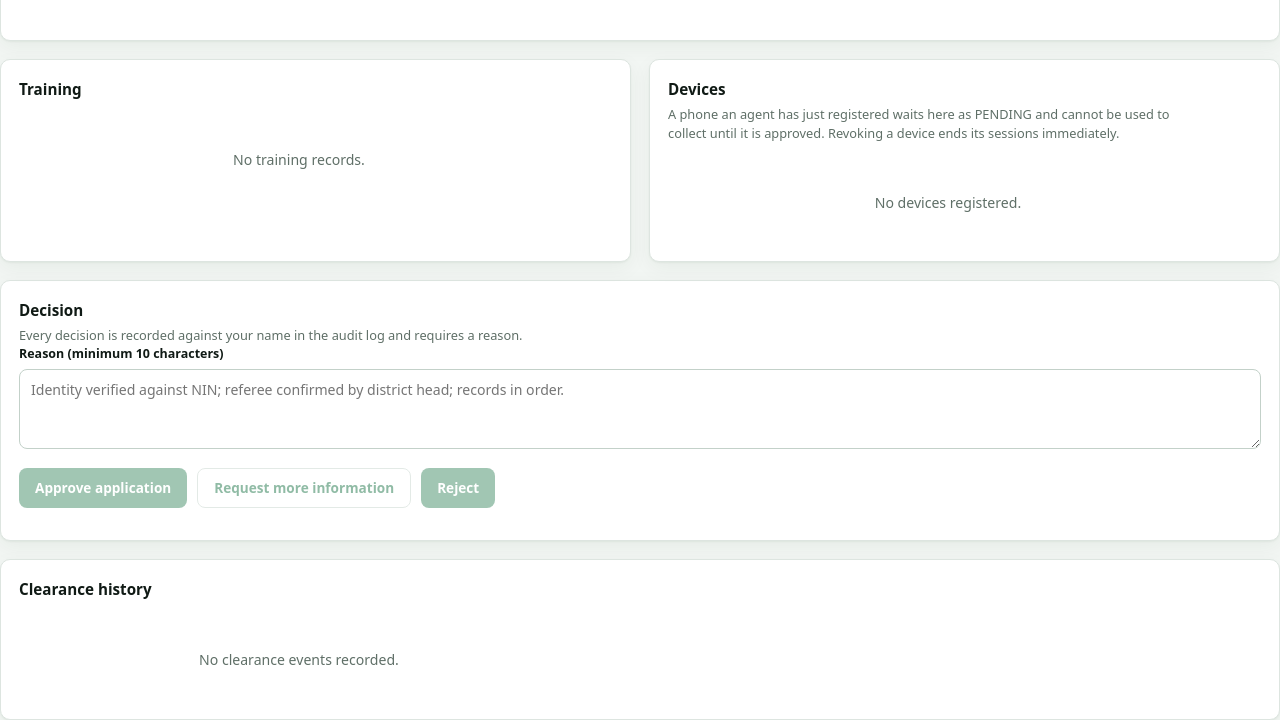
Test: deciding an application › shows the server’s refusal instead of reporting an approval that did not happen
The image size is (1280, 720).
(page scrolled)
Expected: the button "Approve application" is shown, [19,468,187,508]
Step 1. Replace the text in the text box labelled "Reason (minimum 10 characters)" with "Identity documents checked against the NIN slip." → (640,409), box [19,369,1261,449]
(page scrolled)
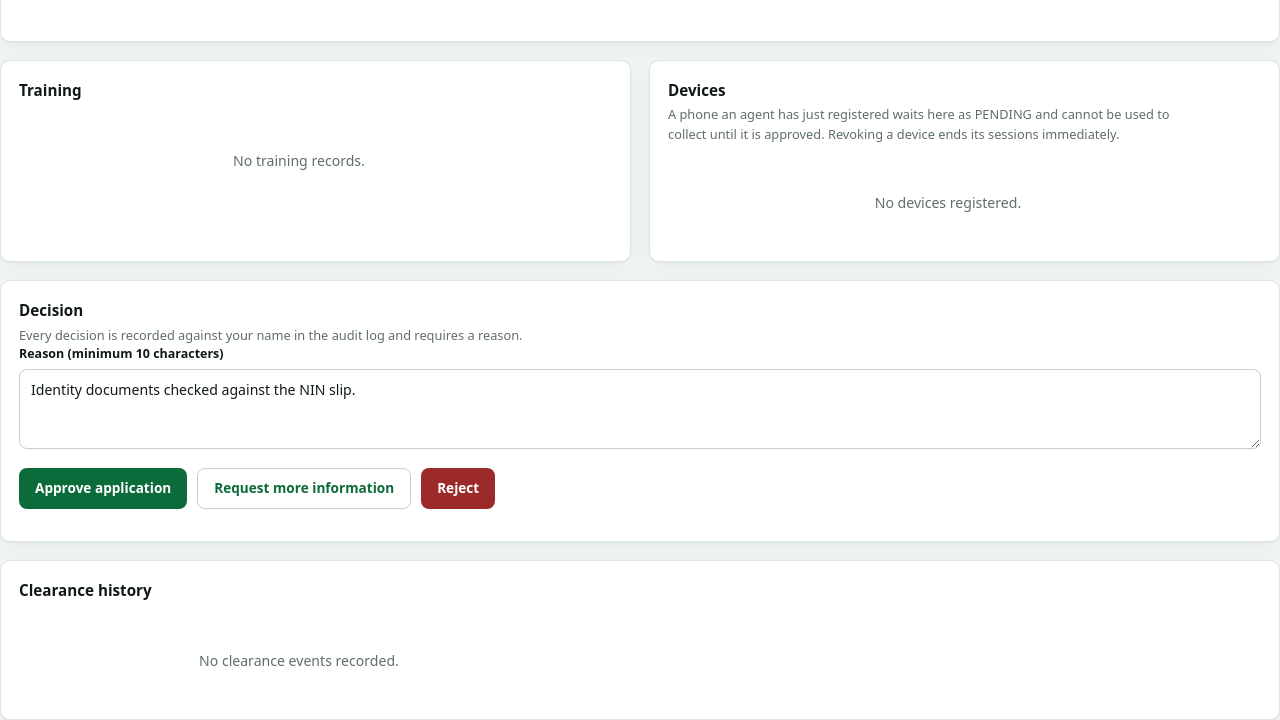
Step 2. Click the button "Approve application" → (103,488), box [19,468,187,509]
(page scrolled)
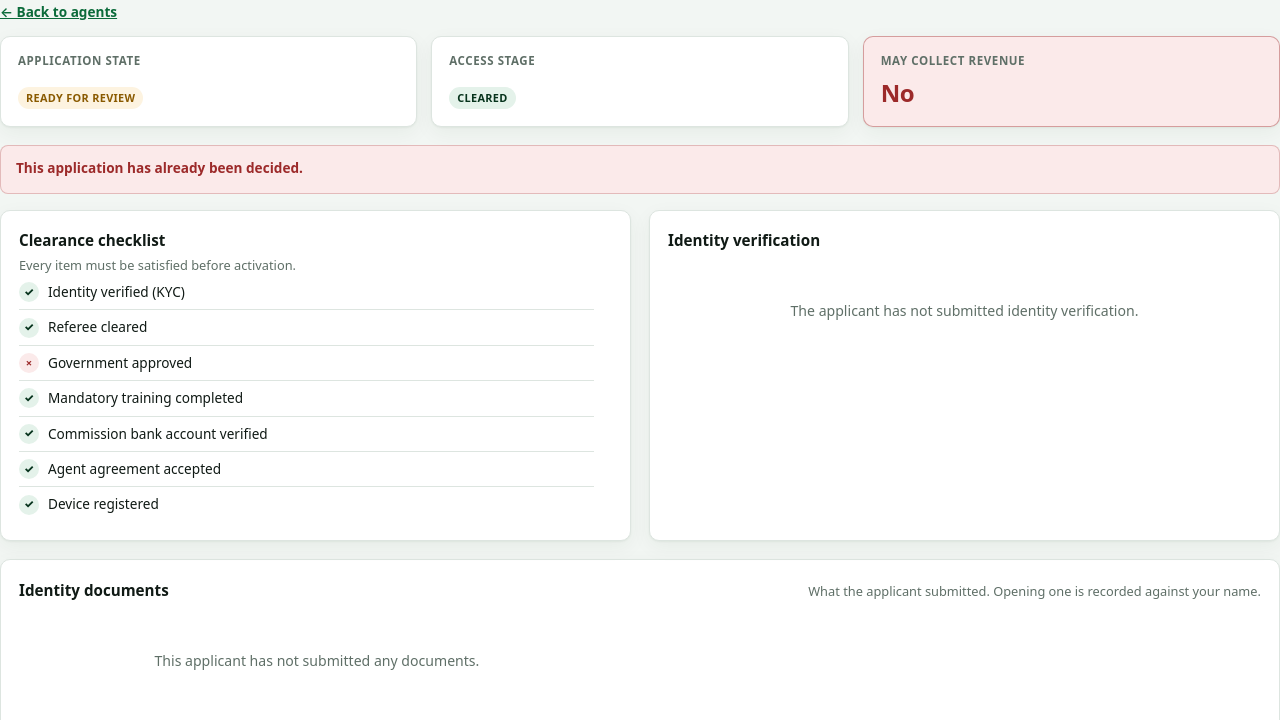
Now the text "This application has already been decided." is shown, box [16,158,303,177]
